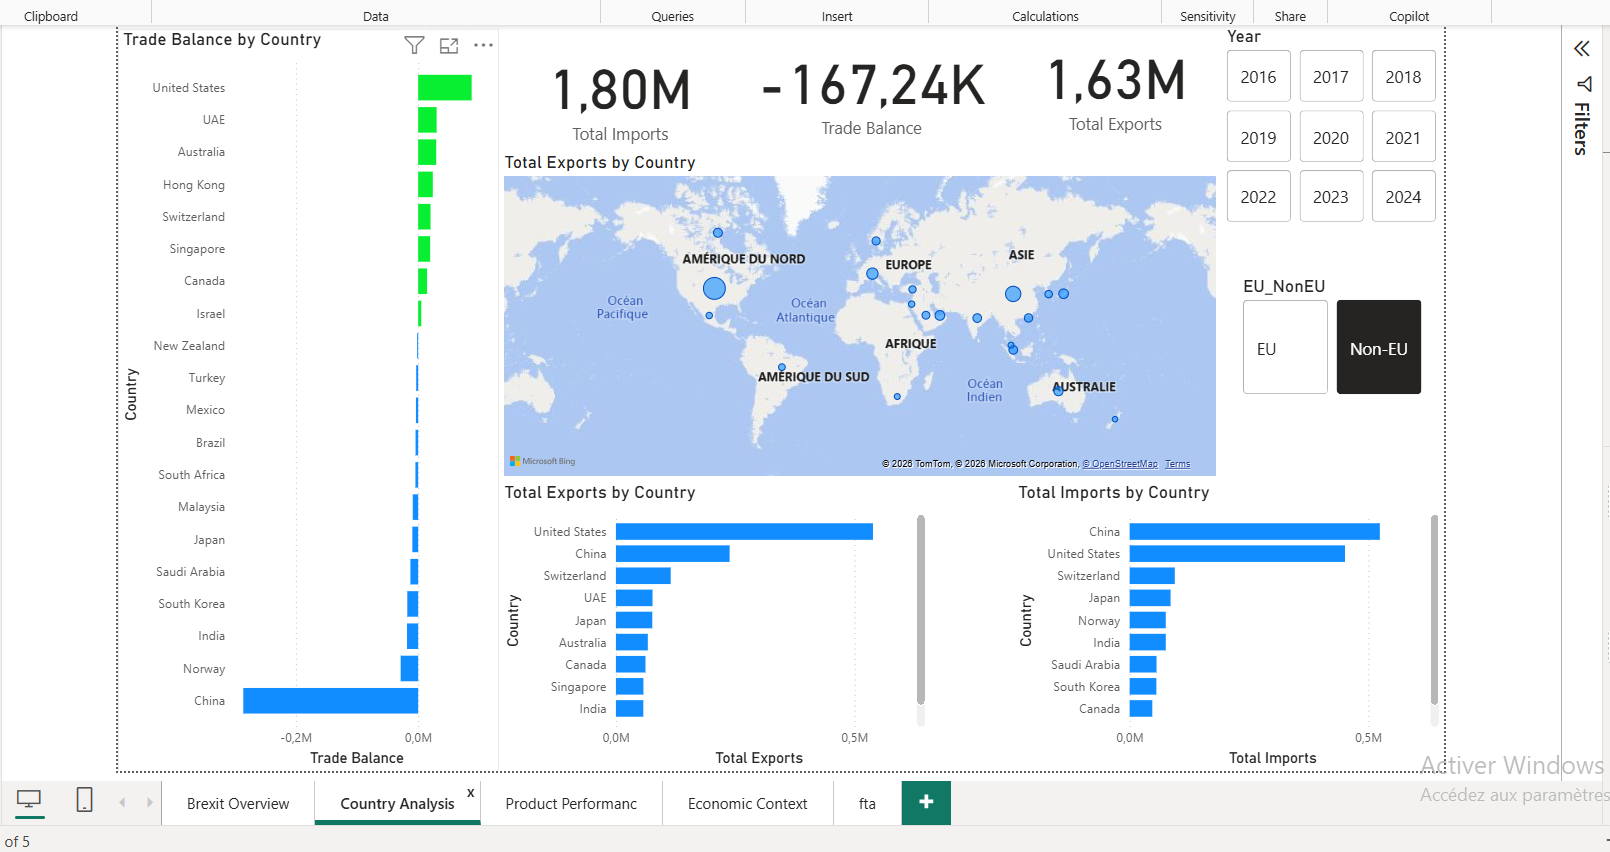

This screenshot's page, from the dashboard's own definition file:
{"tool":"powerbi","page":{"name":"Country Analysis","canvas":[1280,720],"ordinal":1},"visuals":[{"type":"card","fields":{"Values":["richlist table1_trade_by_country.Total Exports"]},"box":[832.4,1.2,219.6,113.4],"z":0},{"type":"card","fields":{"Values":["richlist table1_trade_by_country.Total Imports"]},"box":[358.3,1.2,200.3,111],"z":1000},{"type":"card","fields":{"Values":["richlist table1_trade_by_country.Trade Balance"]},"box":[581.5,0,234,114.6],"z":2000},{"type":"map","fields":{"Category":["richlist table1_trade_by_country.Country"],"Size":["richlist table1_trade_by_country.Total Exports"]},"box":[368,121.9,697.3,318.5],"z":3000},{"type":"barChart","fields":{"Y":["richlist table1_trade_by_country.Total Exports"],"Category":["richlist table1_trade_by_country.Country"]},"box":[368,440.4,416.2,279.9],"z":4000},{"type":"barChart","fields":{"Category":["richlist table1_trade_by_country.Country"],"Y":["richlist table1_trade_by_country.Total Imports"]},"box":[863.8,440.4,416.2,279.9],"z":5000},{"type":"barChart","fields":{"Category":["richlist table1_trade_by_country.Country"],"Y":["richlist table1_trade_by_country.Trade Balance"]},"box":[0,3.6,368,716.6],"z":6000},{"type":"advancedSlicerVisual","fields":{"Values":["richlist table1_trade_by_country.EU_NonEU"]},"box":[1081,241.3,183.4,120.6],"z":7000},{"type":"advancedSlicerVisual","fields":{"Values":["richlist table1_trade_by_country.Year"]},"box":[1065.3,0,214.7,196.6],"z":8000}]}

Visuals, with their boxes on the page's 1280x720 design canvas (x1, y1, x2, y2). These are canvas units, not pixel positions in the 1610x852 screenshot, which may show the page scaled, cropped or inside an application window:
card - richlist table1_trade_by_country.Total Exports: <box>832,1,1052,115</box>
card - richlist table1_trade_by_country.Total Imports: <box>358,1,559,112</box>
card - richlist table1_trade_by_country.Trade Balance: <box>582,0,816,115</box>
map - richlist table1_trade_by_country.Country x richlist table1_trade_by_country.Total Exports: <box>368,122,1065,440</box>
barChart - richlist table1_trade_by_country.Total Exports x richlist table1_trade_by_country.Country: <box>368,440,784,720</box>
barChart - richlist table1_trade_by_country.Country x richlist table1_trade_by_country.Total Imports: <box>864,440,1280,720</box>
barChart - richlist table1_trade_by_country.Country x richlist table1_trade_by_country.Trade Balance: <box>0,4,368,720</box>
advancedSlicerVisual - richlist table1_trade_by_country.EU_NonEU: <box>1081,241,1264,362</box>
advancedSlicerVisual - richlist table1_trade_by_country.Year: <box>1065,0,1280,197</box>
